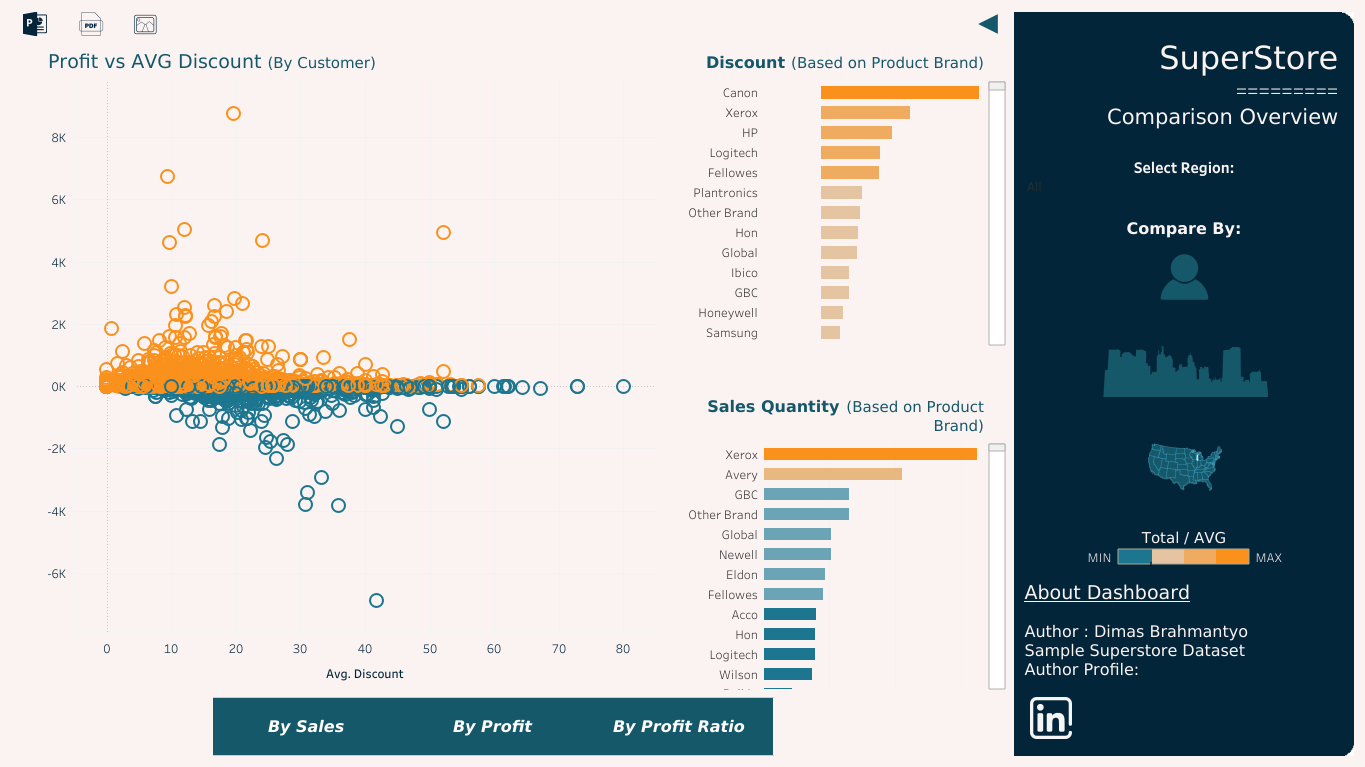

This screenshot's page, from the dashboard's own definition file:
{"tool":"tableau","page":{"name":"Dashboard 2 - Comparison Overview (By Customer & Product Brand)","canvas":[1366,768],"ordinal":2},"visuals":[{"type":"dashboard-object","box":[8,8,54,32]},{"type":"dashboard-object","box":[62,8,60,32]},{"type":"dashboard-object","box":[122,8,47,32]},{"type":"worksheet","title":"Go Back","mark":"Shape","rows":["Calculation_132293265483010062"],"box":[965,8,45,32]},{"type":"image","param":"Image/2.png","box":[1010,8,348,752]},{"type":"text","box":[1025,21,316,125]},{"type":"worksheet","title":"Sheet 8","mark":"Shape","rows":["Calculation_132293265338007554"],"cols":["Calculation_1180506078092304394"],"box":[40,40,620,653]},{"type":"worksheet","title":"Based on Product Brand","mark":"Bar","rows":["Product Brand"],"box":[683,40,327,309]},{"type":"blank","box":[1025,155,318,50]},{"type":"setMembership","title":"Sheet 8","param":"[federated.1u37z9d020ffhv1e04nla11qurtp].[a1. Select Region Set]","box":[1025,155,318,50]},{"type":"text","box":[1027,213,314,30]},{"type":"dashboard-object","box":[1028,251,313,52]},{"type":"dashboard-object","box":[1028,345,314,52]},{"type":"worksheet","title":"Quantity Based on Product Brand","mark":"Automatic","rows":["Product Brand"],"cols":["Quantity"],"box":[683,384,327,309]},{"type":"dashboard-object","box":[1030,440,310,52]},{"type":"legend","title":"Based on Product Brand","param":"[federated.1u37z9d020ffhv1e04nla11qurtp].[usr:Calculation_132293265338007554:qk]","box":[1114,525,140,50]},{"type":"text","box":[1085,544,29,26]},{"type":"text","box":[1253,546,37,22]},{"type":"text","box":[1022,577,272,106]},{"type":"worksheet","title":"LinkedIn","mark":"Shape","rows":["Calculation_1125055507973922816"],"box":[1022,691,57,53]},{"type":"worksheet","title":"Field Button (Dashboard 2)","mark":"Shape","box":[209,693,569,67]}]}

Visuals, with their boxes in screenshot pixels (x1, y1, x2, y2), scaled from the page's 1366x768 canvas onto the 1365x767 screenshot:
dashboard-object: pyautogui.locateOnScreen(8, 8, 62, 40)
dashboard-object: pyautogui.locateOnScreen(62, 8, 122, 40)
dashboard-object: pyautogui.locateOnScreen(122, 8, 169, 40)
"Go Back" worksheet (Shape marks): pyautogui.locateOnScreen(964, 8, 1009, 40)
image: pyautogui.locateOnScreen(1009, 8, 1357, 759)
text: pyautogui.locateOnScreen(1024, 21, 1340, 146)
"Sheet 8" worksheet (Shape marks): pyautogui.locateOnScreen(40, 40, 660, 692)
"Based on Product Brand" worksheet (Bar marks): pyautogui.locateOnScreen(682, 40, 1009, 349)
blank: pyautogui.locateOnScreen(1024, 155, 1342, 205)
"Sheet 8" setMembership: pyautogui.locateOnScreen(1024, 155, 1342, 205)
text: pyautogui.locateOnScreen(1026, 213, 1340, 243)
dashboard-object: pyautogui.locateOnScreen(1027, 251, 1340, 303)
dashboard-object: pyautogui.locateOnScreen(1027, 345, 1341, 396)
"Quantity Based on Product Brand" worksheet: pyautogui.locateOnScreen(682, 384, 1009, 692)
dashboard-object: pyautogui.locateOnScreen(1029, 439, 1339, 491)
"Based on Product Brand" legend: pyautogui.locateOnScreen(1113, 524, 1253, 574)
text: pyautogui.locateOnScreen(1084, 543, 1113, 569)
text: pyautogui.locateOnScreen(1252, 545, 1289, 567)
text: pyautogui.locateOnScreen(1021, 576, 1293, 682)
"LinkedIn" worksheet (Shape marks): pyautogui.locateOnScreen(1021, 690, 1078, 743)
"Field Button (Dashboard 2)" worksheet (Shape marks): pyautogui.locateOnScreen(209, 692, 777, 759)
